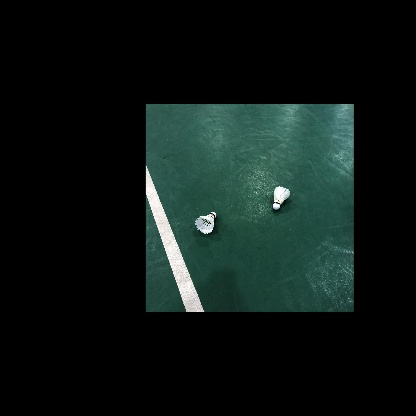ball_single: (195, 212, 216, 234), (273, 186, 290, 210)
